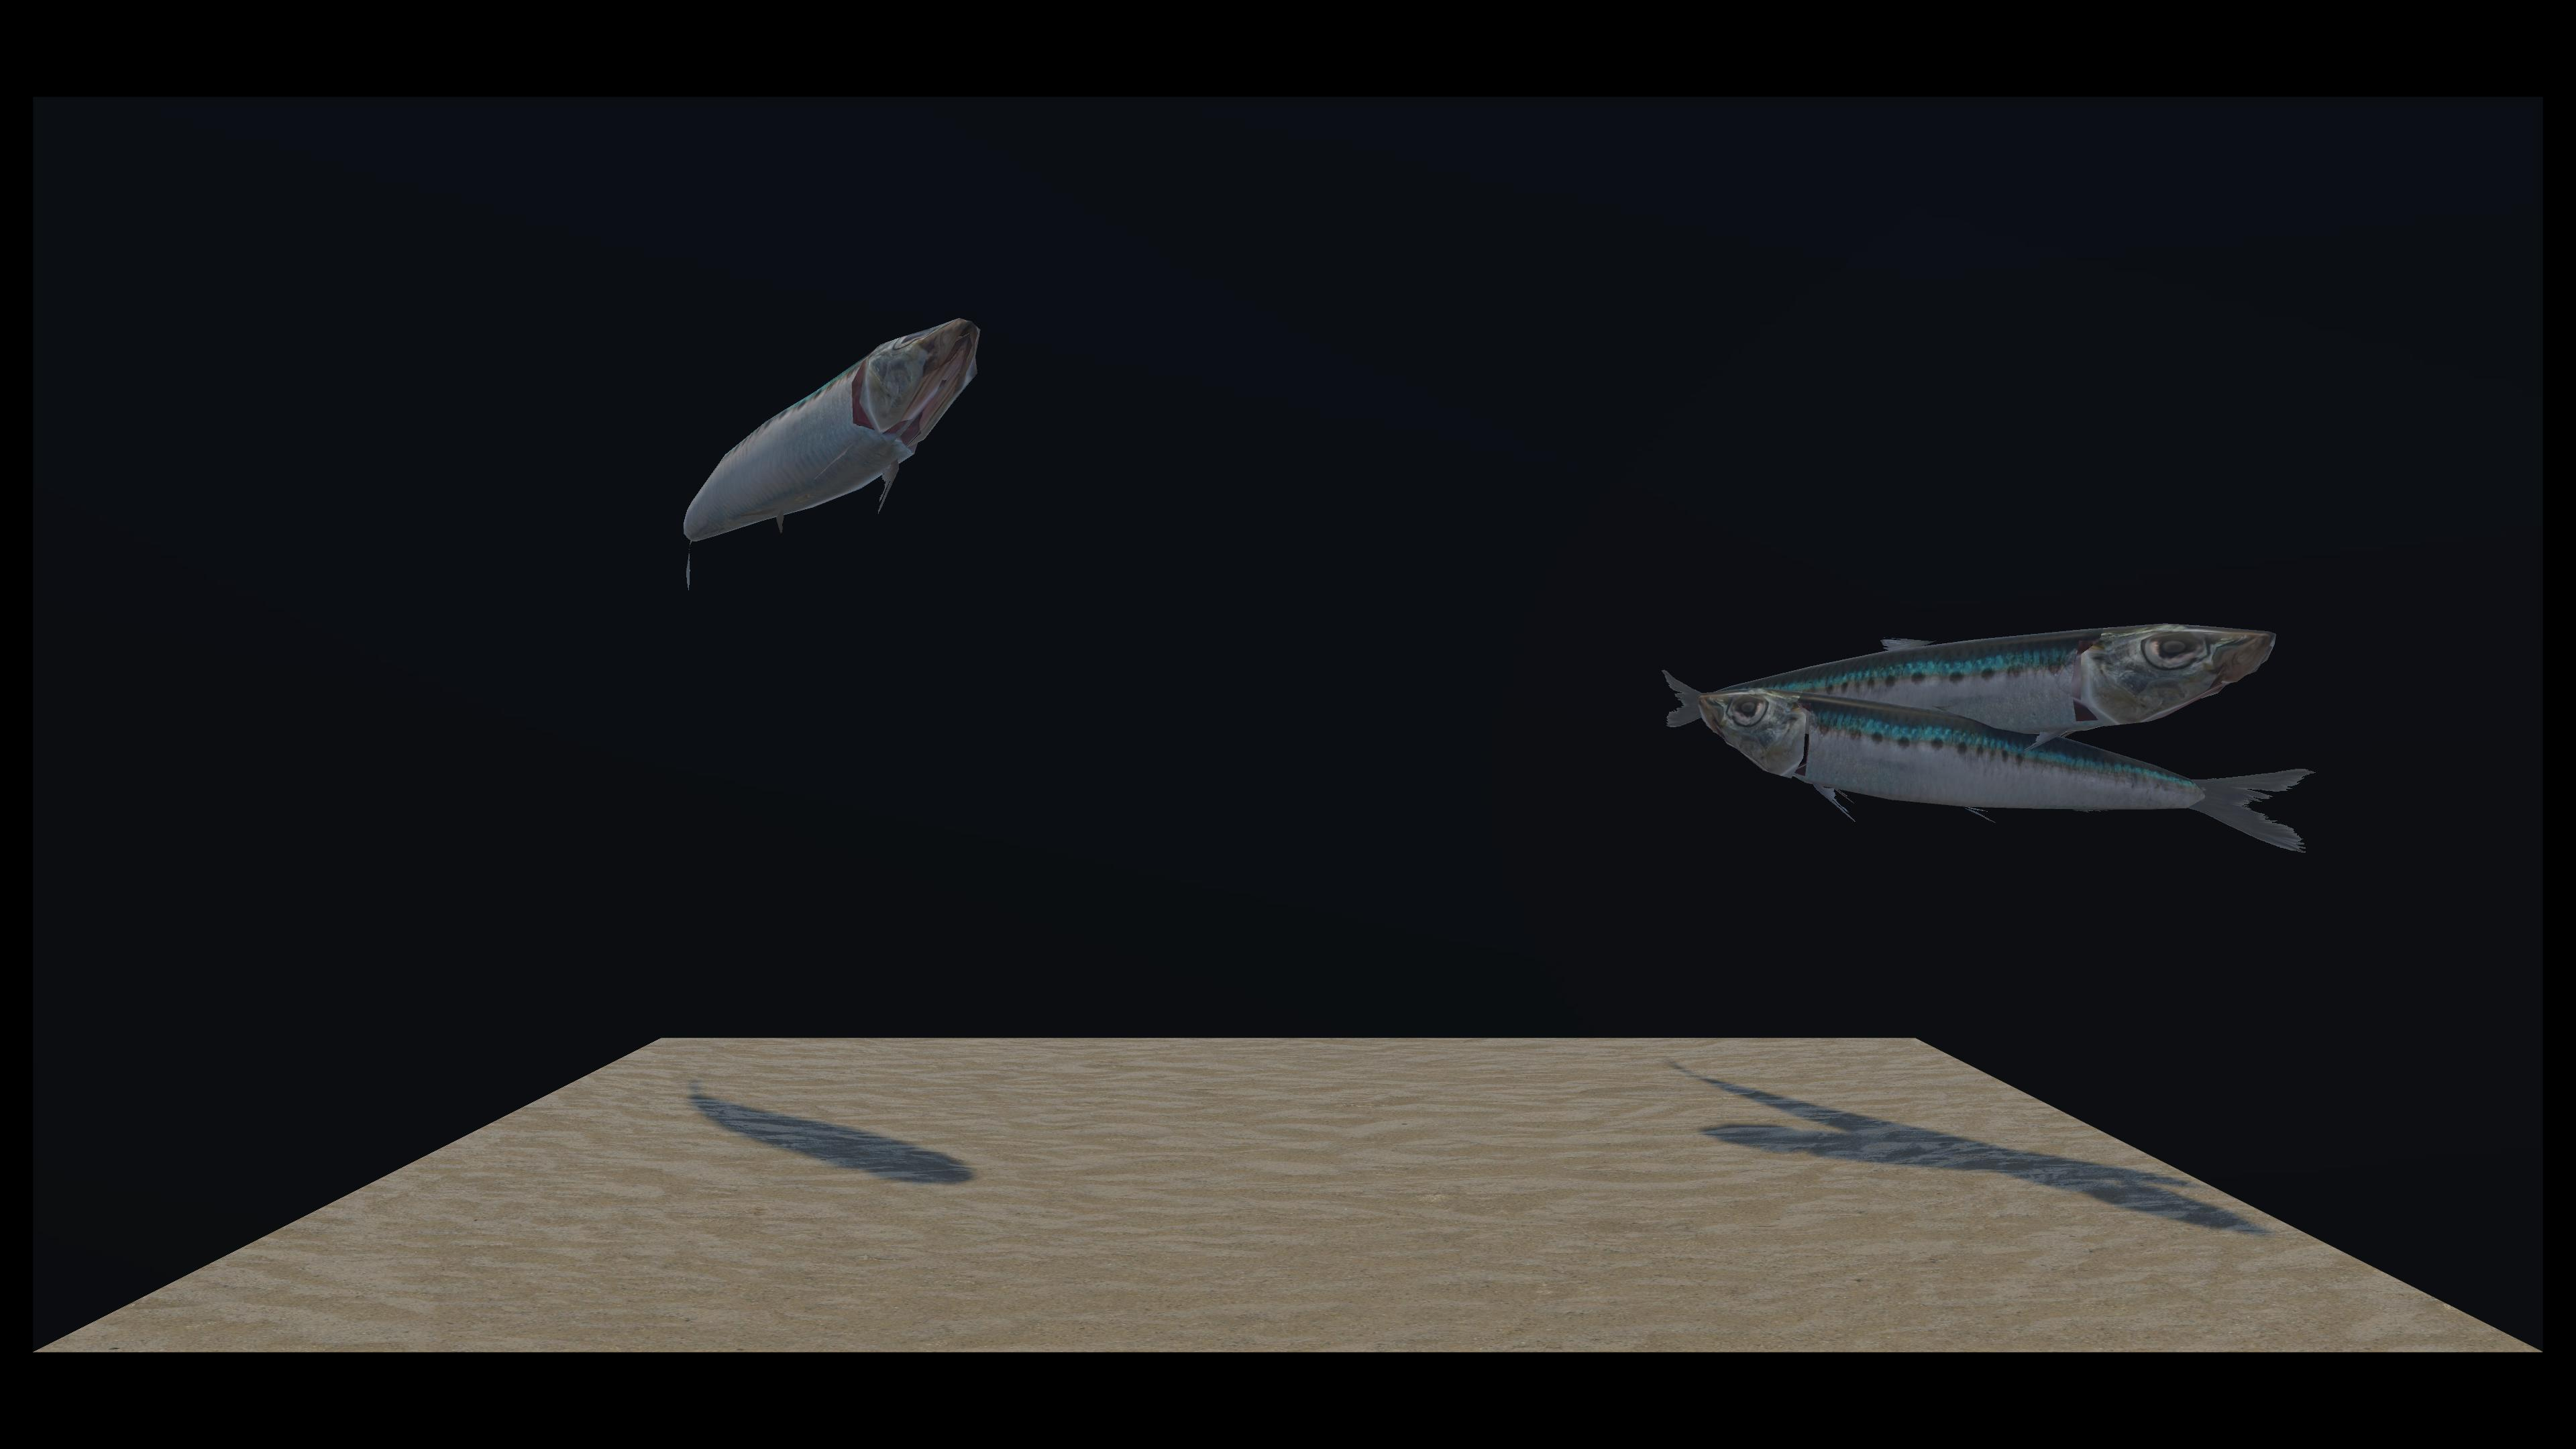Sardine_Front: (913, 405, 2307, 851), (954, 356, 2265, 773), (685, 322, 968, 587)
